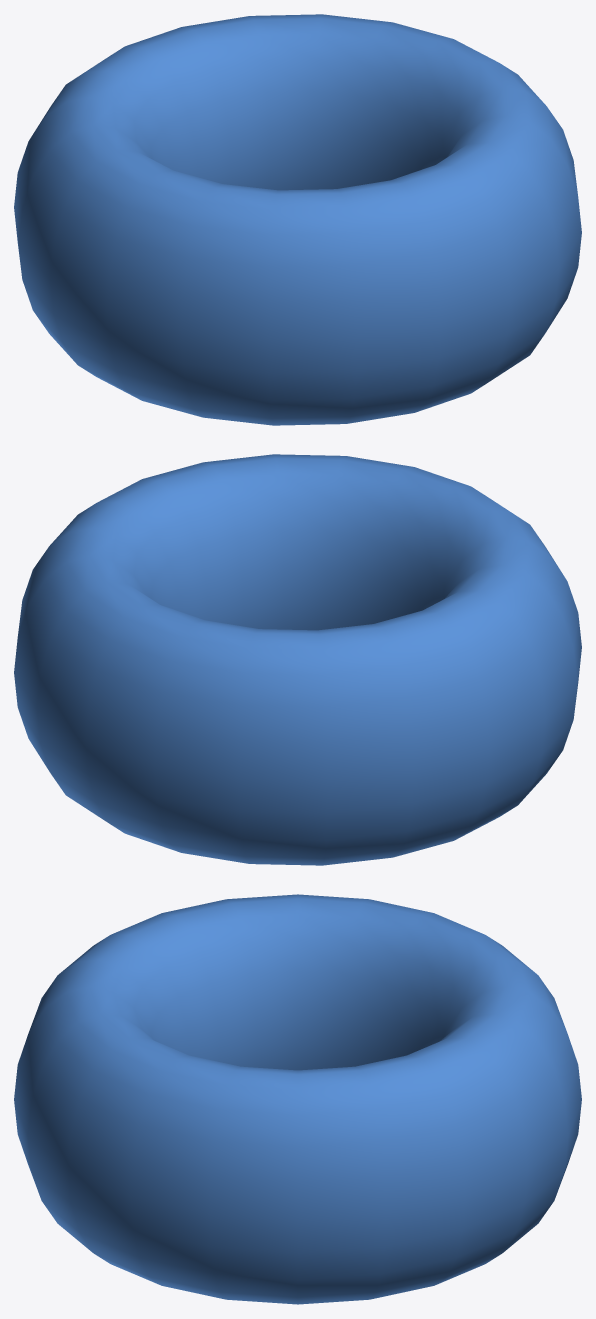
File: Toroide3.obj
3 renders of one model, top to bottom at view 1: azimuth 30°, elevation 25°; view 2: azimuth 150°, elevation 25°; view 3: azimuth 270°, elevation 25°, orthographic.
Visible parts, largest first — view 1: toroide3; view 2: toroide3; view 3: toroide3.
Part boxes in pixels (<box>): toroide3: <box>14,14,581,425</box>; toroide3: <box>14,454,581,865</box>; toroide3: <box>14,894,581,1304</box>.
Size of the model in its own units: 0.561 by 0.2456 by 0.561.
Materials: 1 (1 with a texture image).
